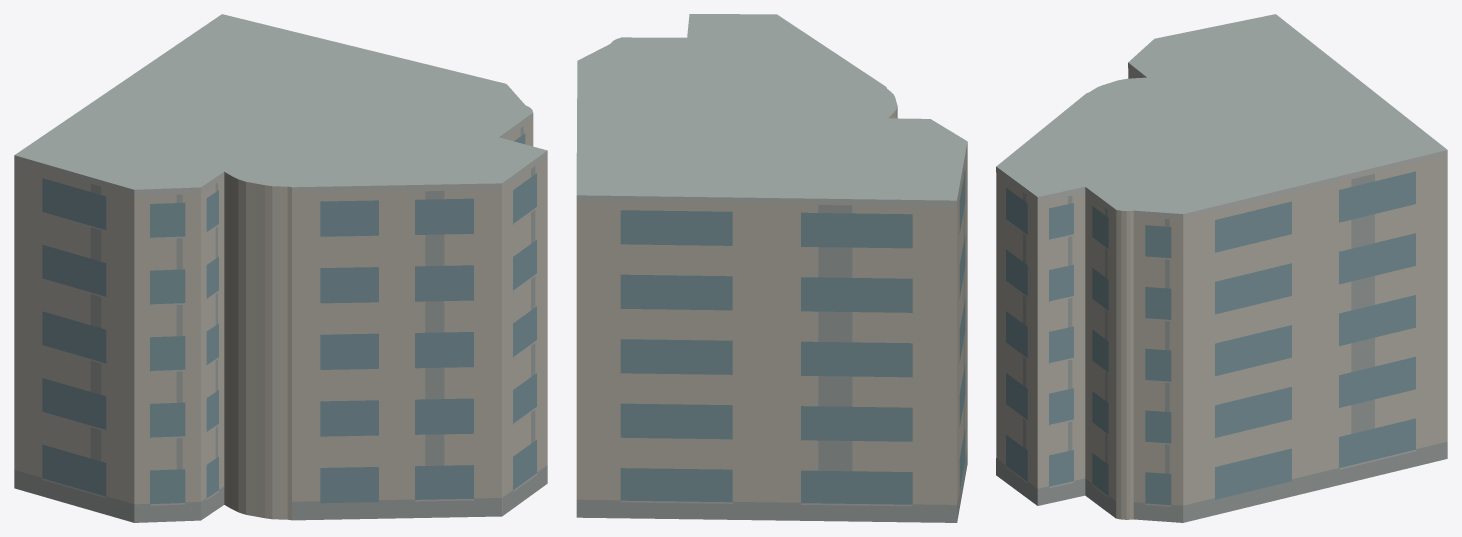
Rendered from survey-upis-32948420.glb.
3 renders of one model, left to right at view 1: azimuth 30°, elevation 25°; view 2: azimuth 150°, elevation 25°; view 3: azimuth 270°, elevation 25°, orthographic. The views are drawn at different scales.
Parts seen in each view (by area): view 1: survey-upis-32948420.tmp; view 2: survey-upis-32948420.tmp; view 3: survey-upis-32948420.tmp.
Part boxes in pixels (x1=…): survey-upis-32948420.tmp: x1=14, y1=14, x2=547, y2=522; survey-upis-32948420.tmp: x1=576, y1=14, x2=967, y2=522; survey-upis-32948420.tmp: x1=996, y1=14, x2=1447, y2=522.
Size of the model in its own units: 17.38 by 12.5 by 16.57.
